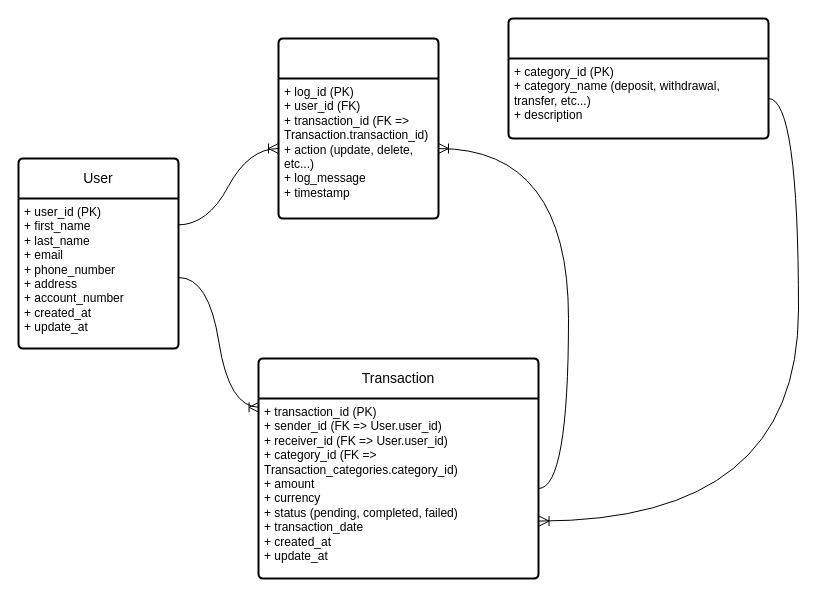
The diagram is 816 pixels wide and 596 high, and some of its shapes have lost their labels. Each missing label, with the box of its shape:
System_logs: (277, 37, 439, 219)
Transaction_categories: (507, 17, 769, 139)
